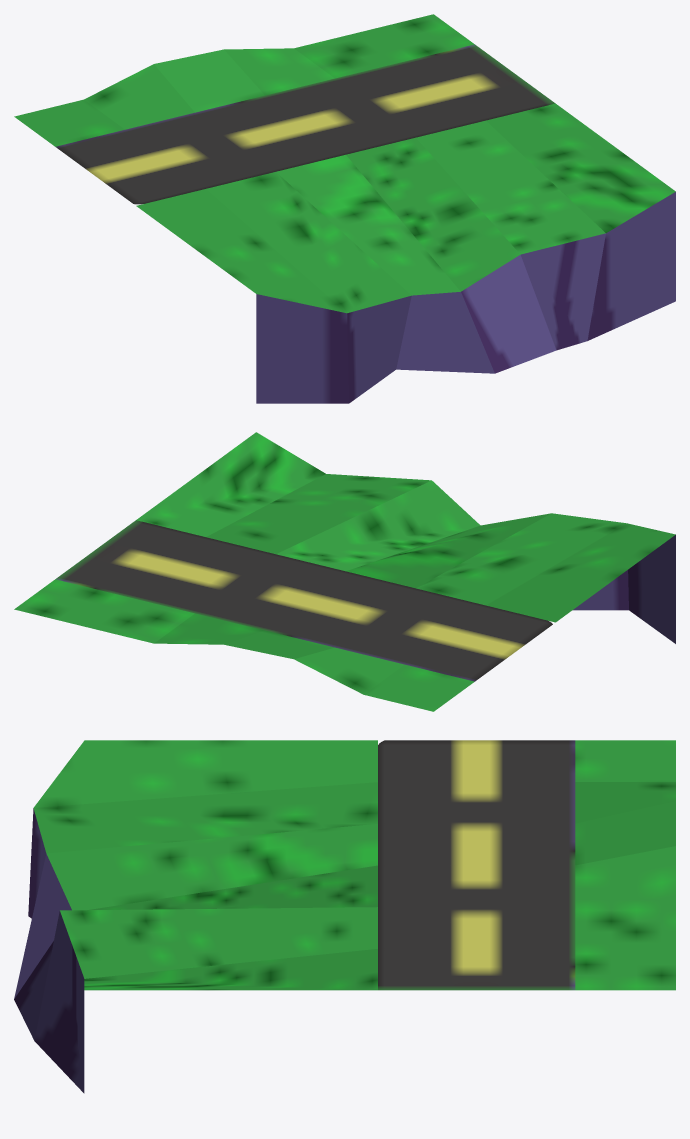
Rendered from Suelo5.fbx.
3 views of the same model, one above another, from view 1: azimuth 30°, elevation 25°; view 2: azimuth 150°, elevation 25°; view 3: azimuth 270°, elevation 25° (orthographic). The views are drawn at different scales.
Visible parts, largest first — view 1: Cube.003; view 2: Cube.003; view 3: Cube.003.
Boxes of the visible parts, x1,y1,x2,y2 form: Cube.003: (14,14,675,403); Cube.003: (14,432,675,711); Cube.003: (14,740,675,1093).
Bounding box in the file's own units: 8000 × 8953 × 2668.
Materials: 1 (1 with a texture image).
